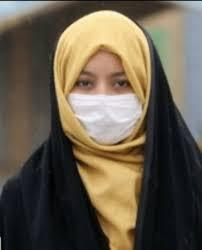Wearing Mask: (31, 0, 186, 152)
